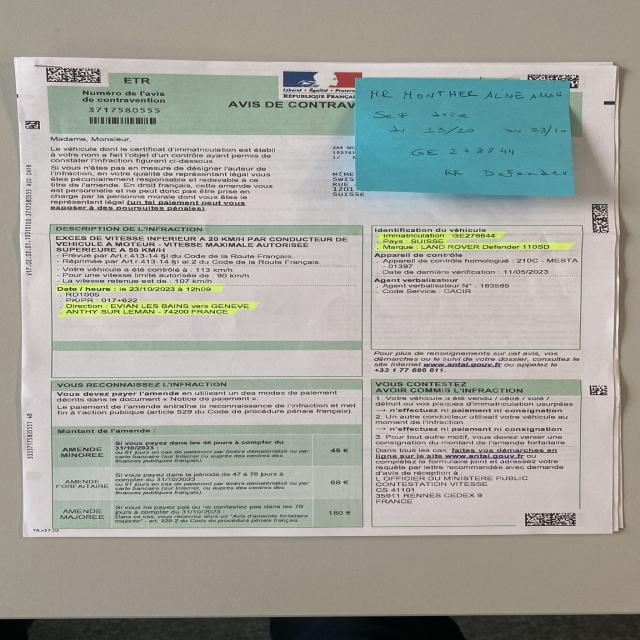paper-document-: (17, 57, 617, 536)
